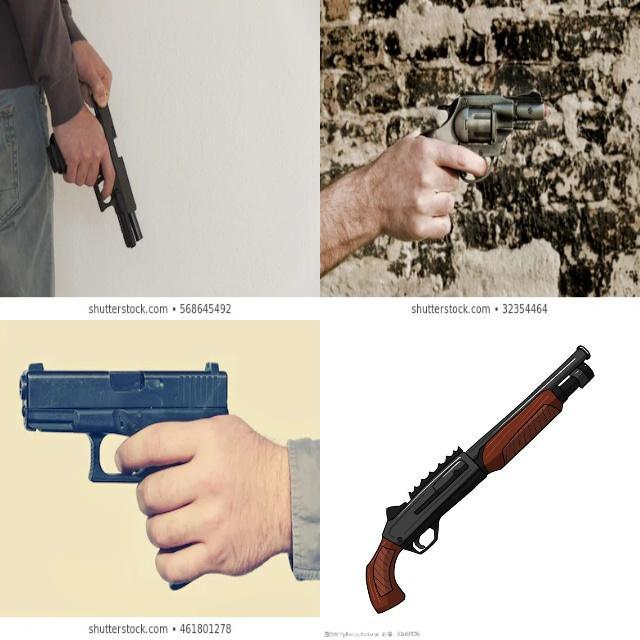gun-knife-thesis - v11 Yolov5 augmented: (350, 331, 599, 624), (14, 351, 235, 589), (414, 82, 556, 216), (43, 82, 145, 248)
